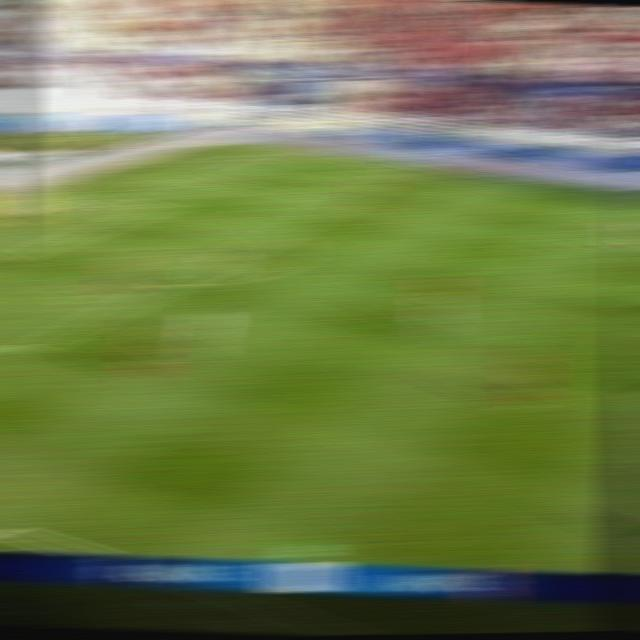bigarea_bottom_inner: (6, 338, 45, 363)
bigarea_top_inner: (327, 192, 362, 209)
bigarea_top_outter: (158, 168, 193, 181)
bottom_arc_area_intersection: (151, 273, 189, 292)
corner: (232, 146, 268, 157)
smallarea_top_inner: (139, 200, 173, 215)
smallarea_top_outter: (82, 188, 118, 205)
top_arc_area_intersection: (261, 224, 295, 241)
